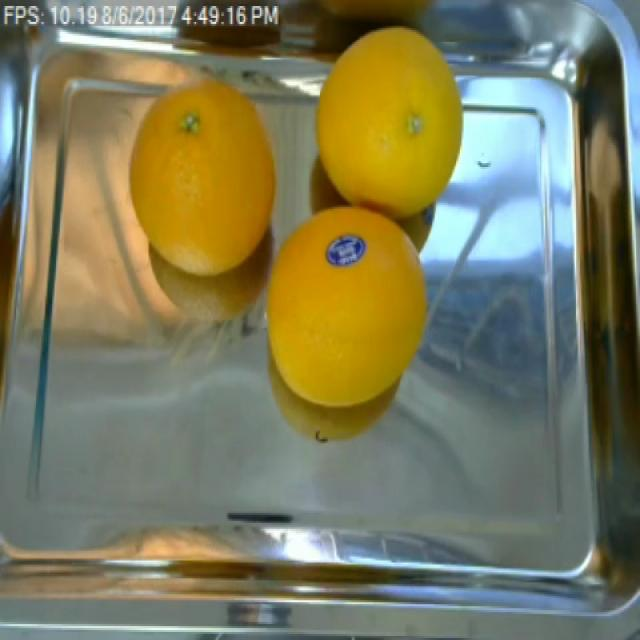Fruit: (300, 2, 485, 223)
